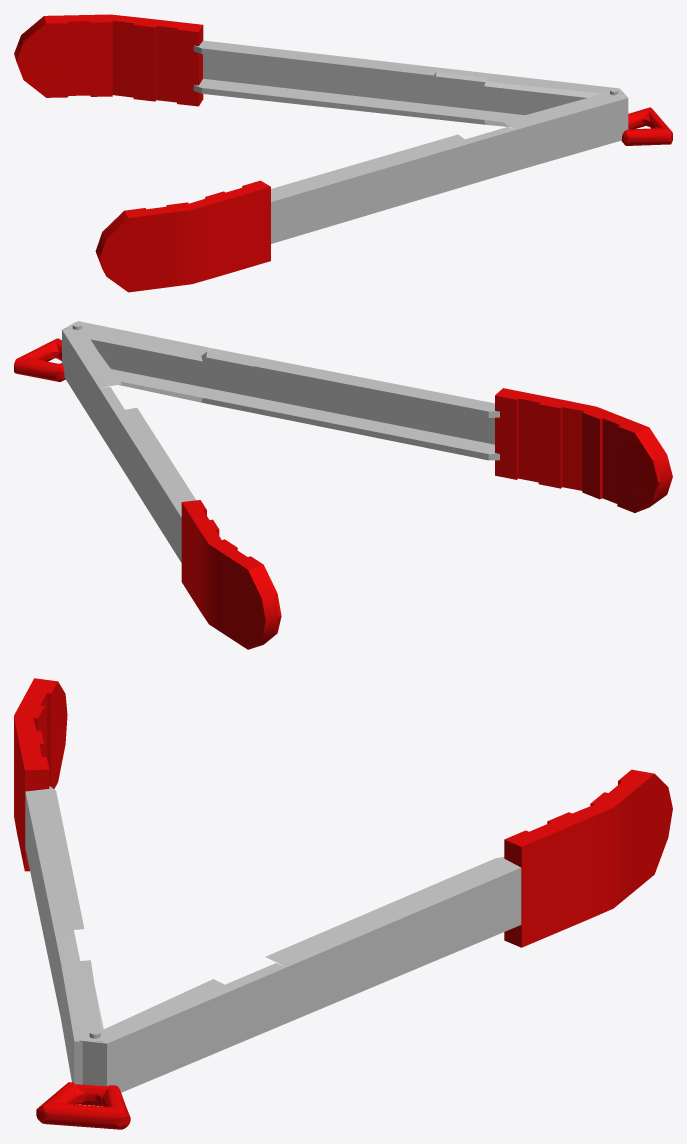
The model's file is 7ddd7aec-ac85-46ad-86f8-0757168bcb48.glb.
3 views of the same model, one above another, from view 1: azimuth 30°, elevation 25°; view 2: azimuth 150°, elevation 25°; view 3: azimuth 270°, elevation 25° (orthographic). The views are drawn at different scales.
Parts seen in each view (by area): view 1: Box008, Box007, Box009, Box006, Box010; view 2: Box007, Box006, Box008, Box009, Box010; view 3: Box008, Box009, Box007, Box006, Box010.
Part boxes in pixels (x1,y1,x2,y2): Box008: [193, 40, 626, 126]; Box007: [271, 89, 628, 243]; Box009: [14, 14, 203, 106]; Box006: [95, 180, 270, 292]; Box010: [621, 107, 672, 145]; Box007: [65, 321, 499, 460]; Box006: [495, 388, 672, 512]; Box008: [62, 322, 195, 562]; Box009: [181, 500, 281, 649]; Box010: [14, 338, 65, 381]; Box008: [79, 857, 521, 1092]; Box009: [504, 769, 672, 947]; Box007: [25, 786, 103, 1084]; Box006: [14, 678, 67, 871]; Box010: [36, 1082, 130, 1129].
Size of the model in its own units: 612666 by 74708 by 442073.
